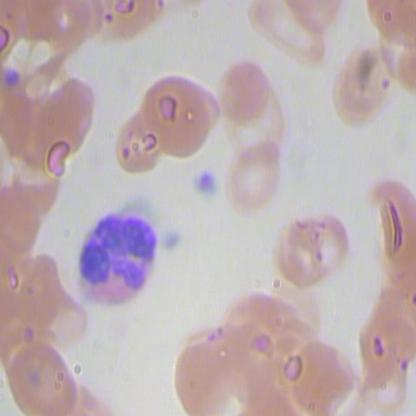Platelets: (191, 168, 220, 203), (157, 224, 185, 258)
RBC: (14, 241, 88, 348), (25, 73, 99, 179), (139, 70, 216, 159), (321, 44, 396, 130), (167, 336, 242, 415), (4, 336, 79, 415), (244, 1, 330, 69), (357, 295, 415, 383), (371, 174, 415, 289), (291, 340, 356, 415), (216, 49, 275, 131), (225, 136, 284, 218), (270, 209, 329, 291), (114, 105, 166, 174), (313, 205, 355, 278)
WBC: (73, 201, 157, 317)
